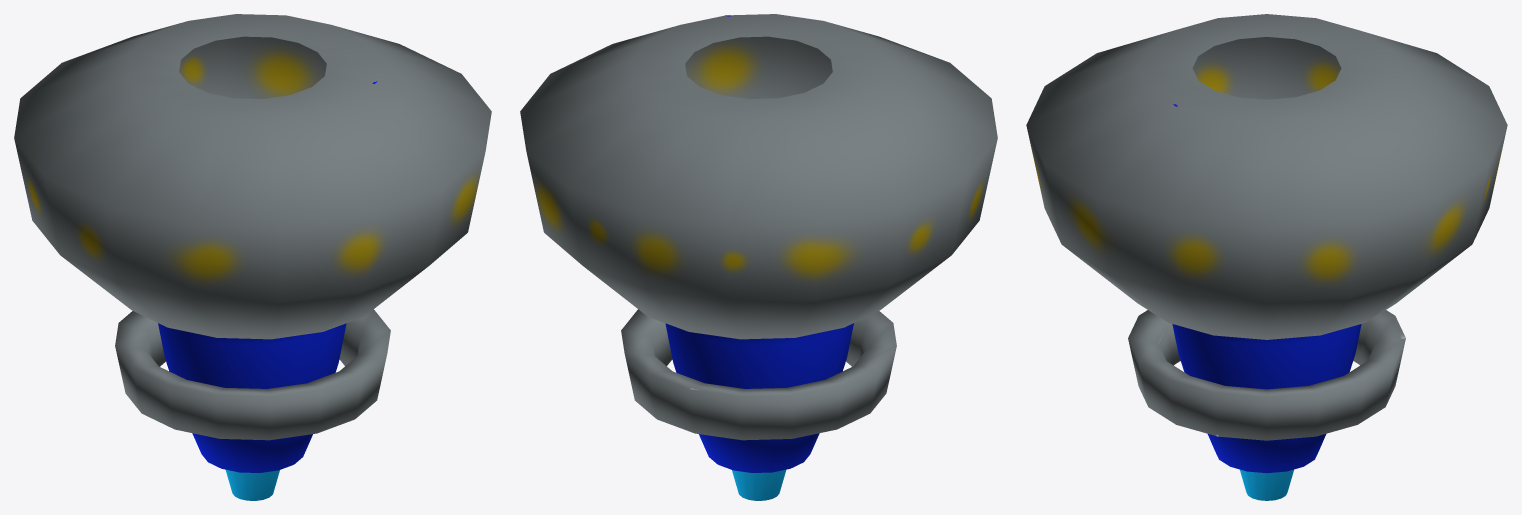
Rendered from Pies de levitacionI.fbx.
The picture shows the model from 3 angles, left to right: view 1: azimuth 30°, elevation 25°; view 2: azimuth 150°, elevation 25°; view 3: azimuth 270°, elevation 25°; orthographic projection.
Parts seen in each view (by area): view 1: Pies de levitaciónI; view 2: Pies de levitaciónI; view 3: Pies de levitaciónI.
Boxes of the visible parts, <box> form: Pies de levitaciónI: <box>14,14,491,500</box>; Pies de levitaciónI: <box>520,14,997,500</box>; Pies de levitaciónI: <box>1026,14,1507,500</box>.
Size of the model in its own units: 18.56 by 18.04 by 18.56.
